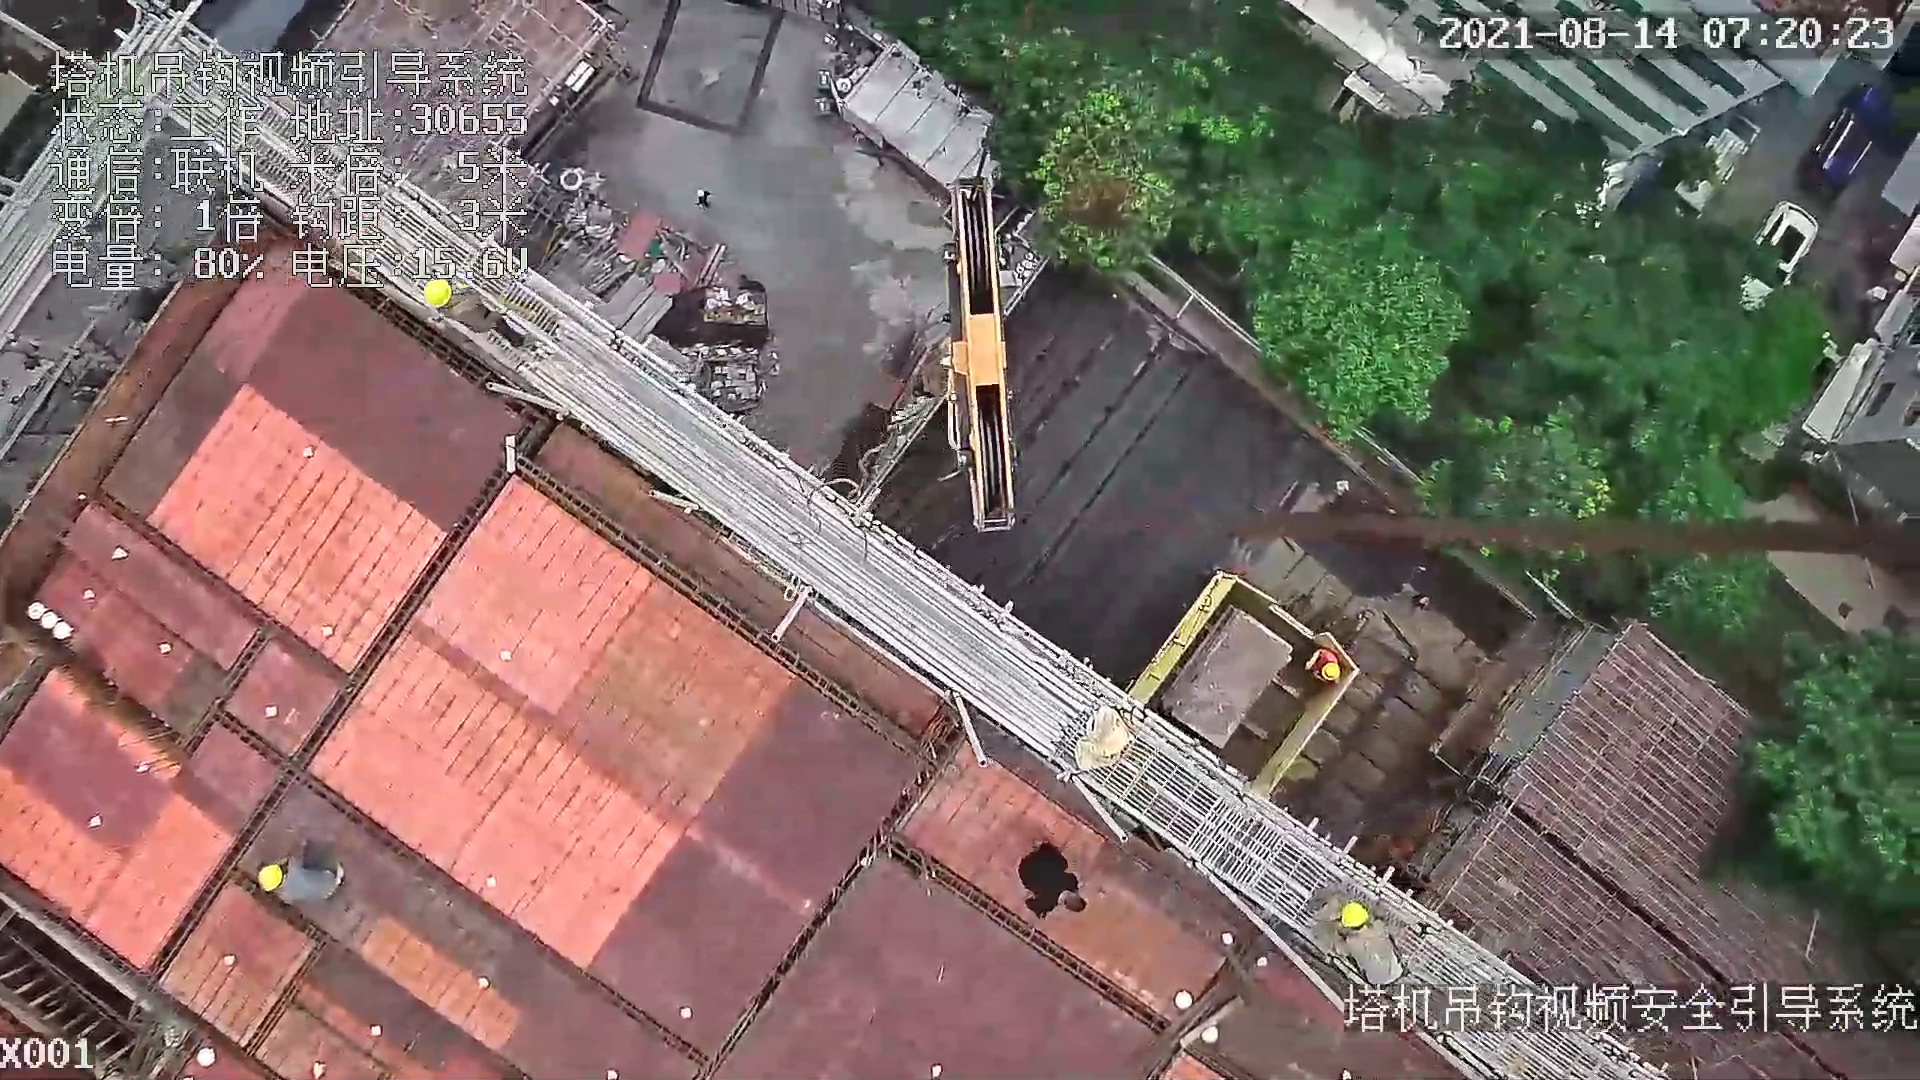helmet: (421, 276, 466, 315), (1337, 901, 1373, 931), (257, 862, 283, 897), (1321, 660, 1340, 685)
hook: (937, 173, 1032, 532)
person: (1010, 837, 1096, 930), (255, 839, 354, 912), (1333, 900, 1410, 989), (432, 274, 515, 347), (1301, 649, 1344, 689)
